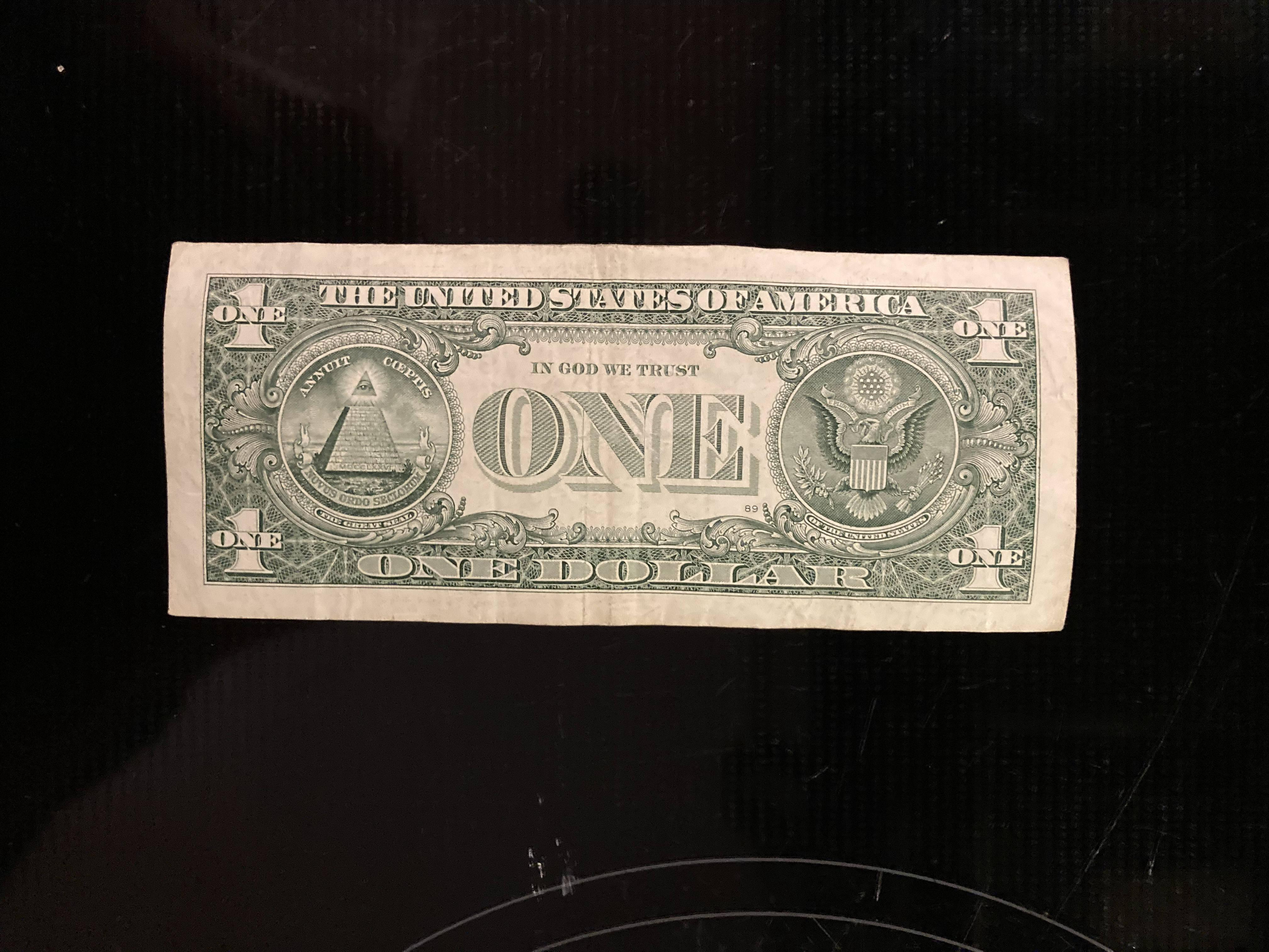one-back: (161, 241, 1076, 635)
